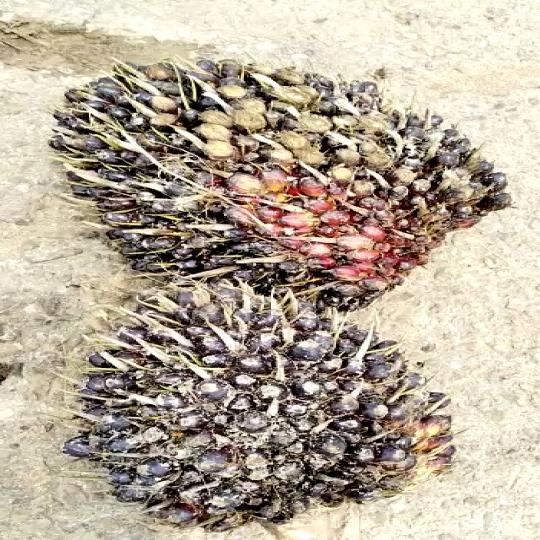mentah: (50, 46, 540, 312), (33, 275, 486, 522)
